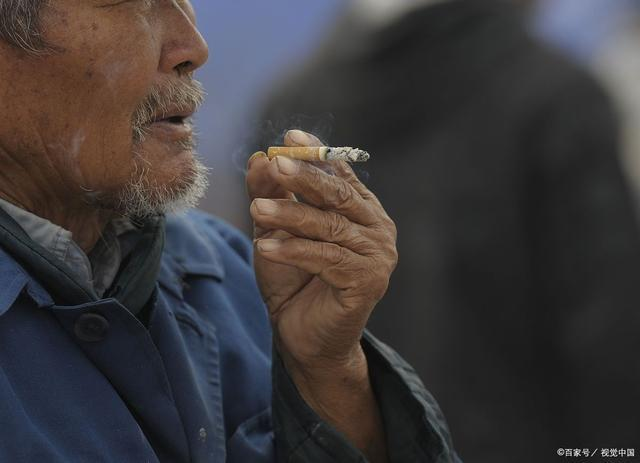Smoking: (268, 146, 372, 164)
